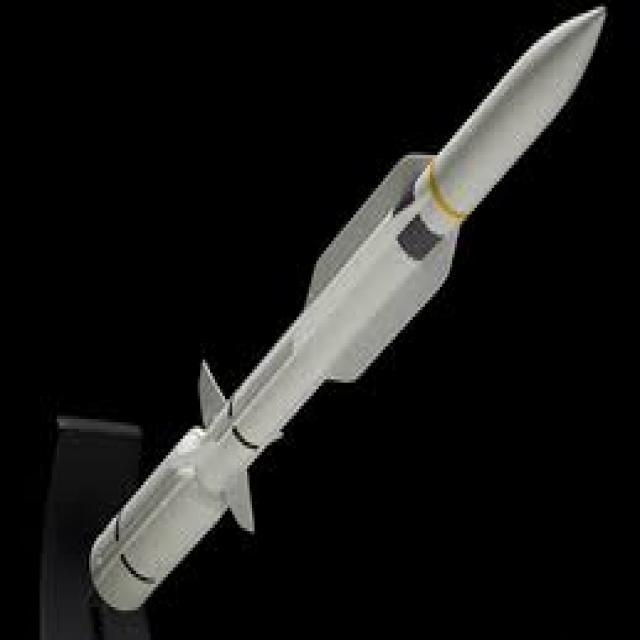Missile: (66, 0, 615, 616)
